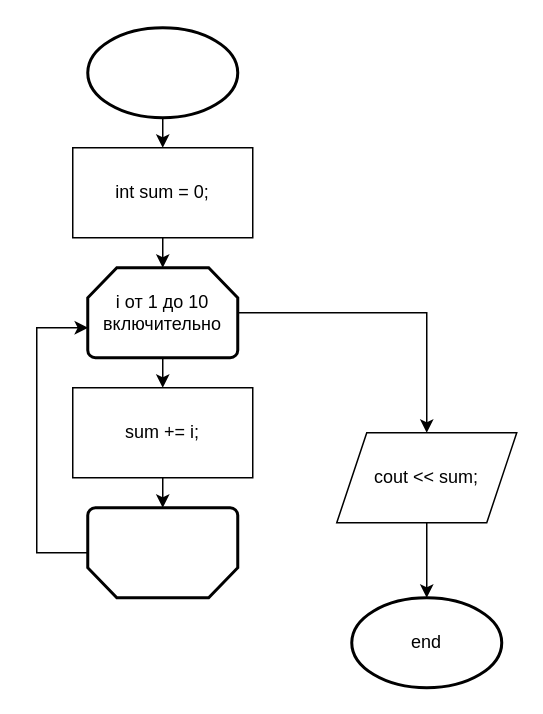
This 543x714 diagram has some shape labels left out. Here are the shapes that lost their labels. From the top down, the centre of each, then its label:
At [162,72]: "begin".
At [162,552]: "++i".
